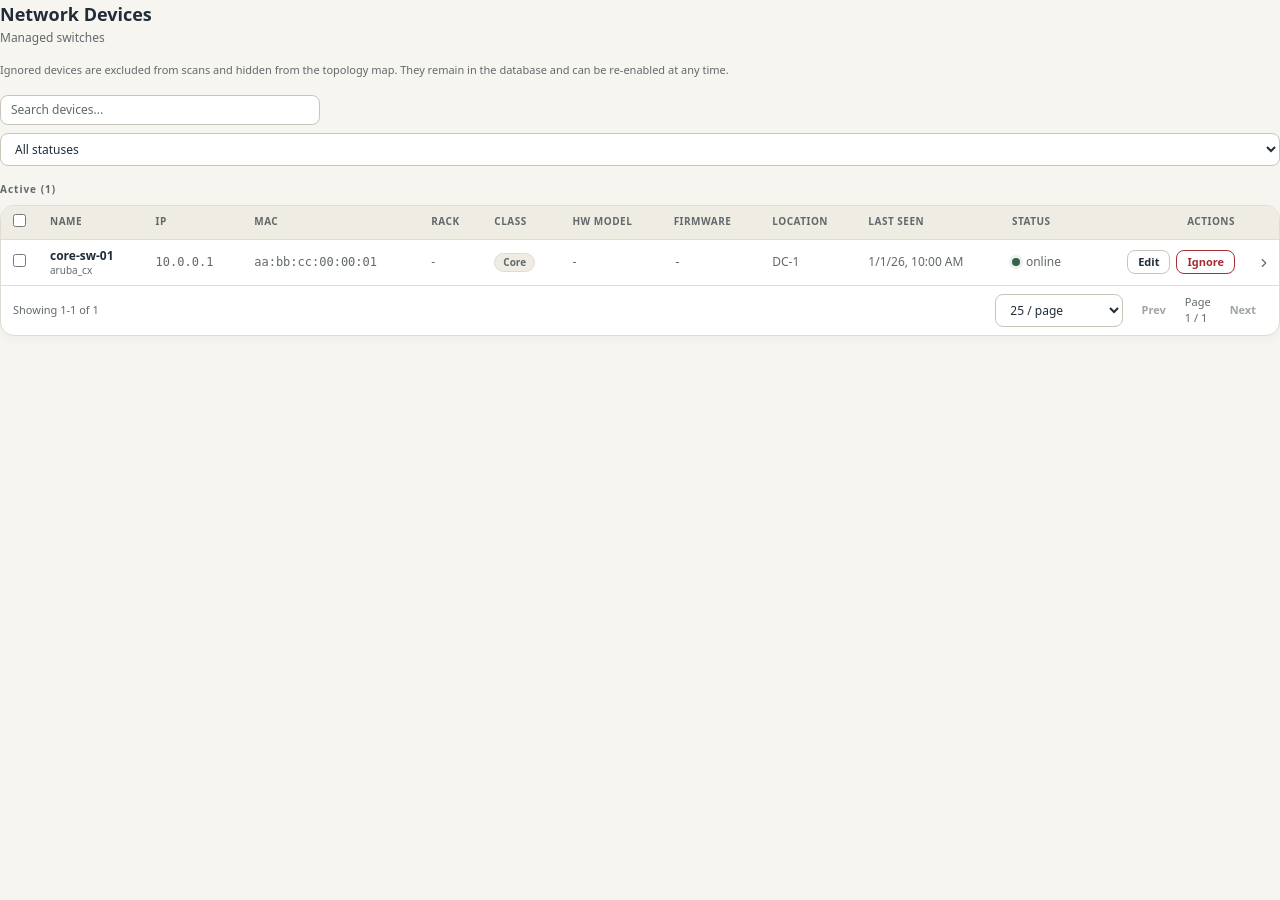
Test: DeviceTable › edit modal › skips the request when nothing changed
Check: the text "Core" is shown, box [494,252,535,272]
Click the button "Edit" at (1149,262), box [1127,250,1170,274]
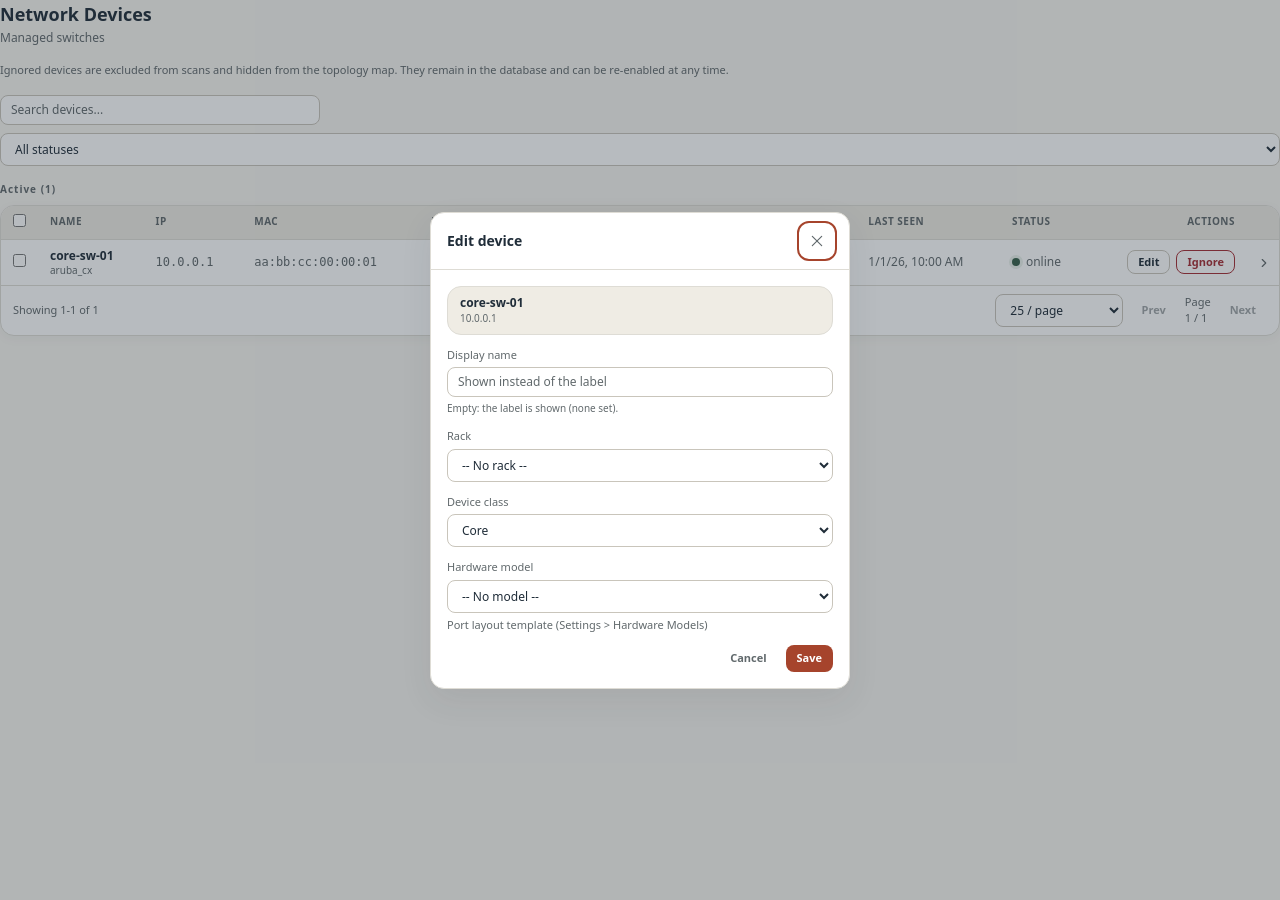
Click the button "Save" at (809,658), box [786,645,833,672]
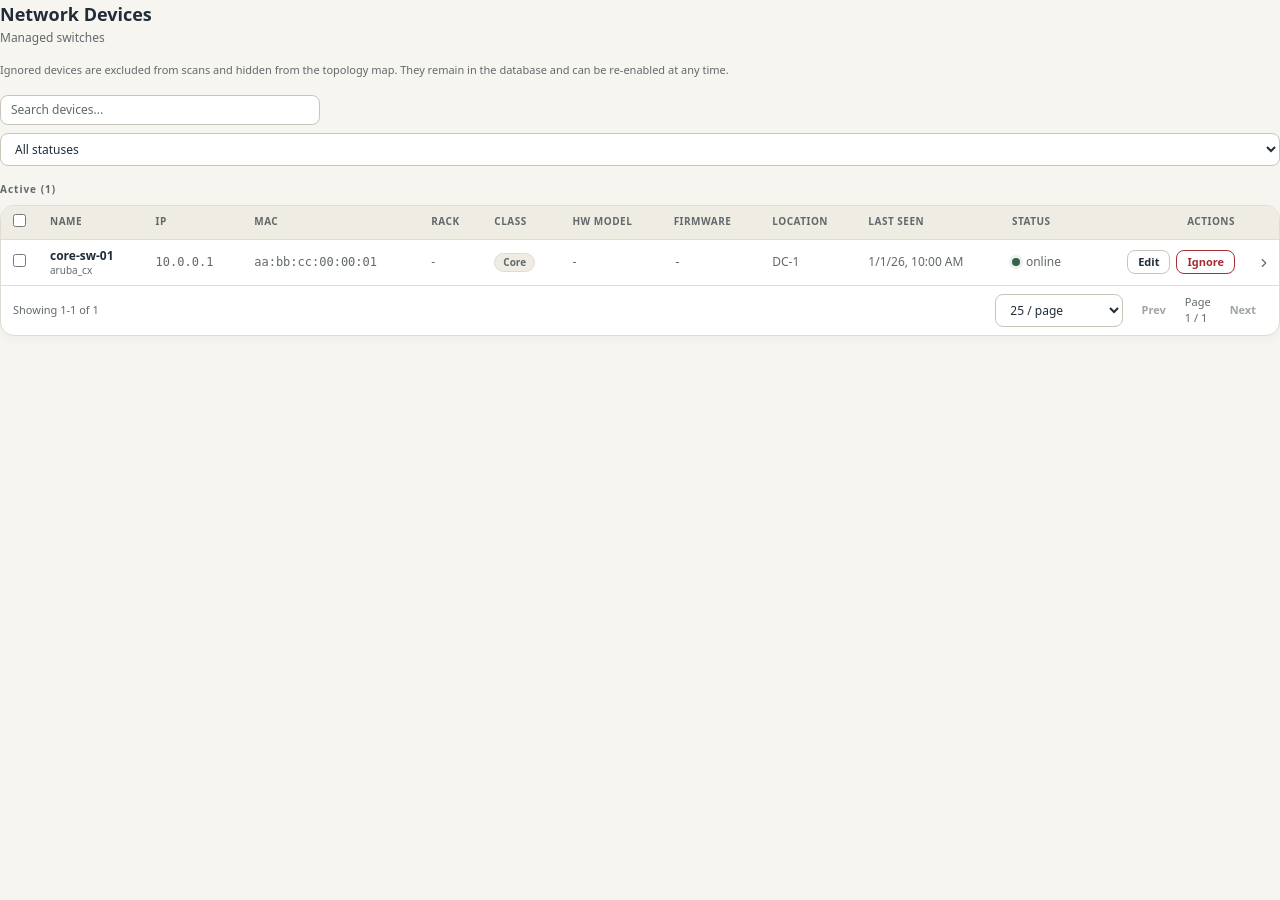
Check: the dialog is gone
